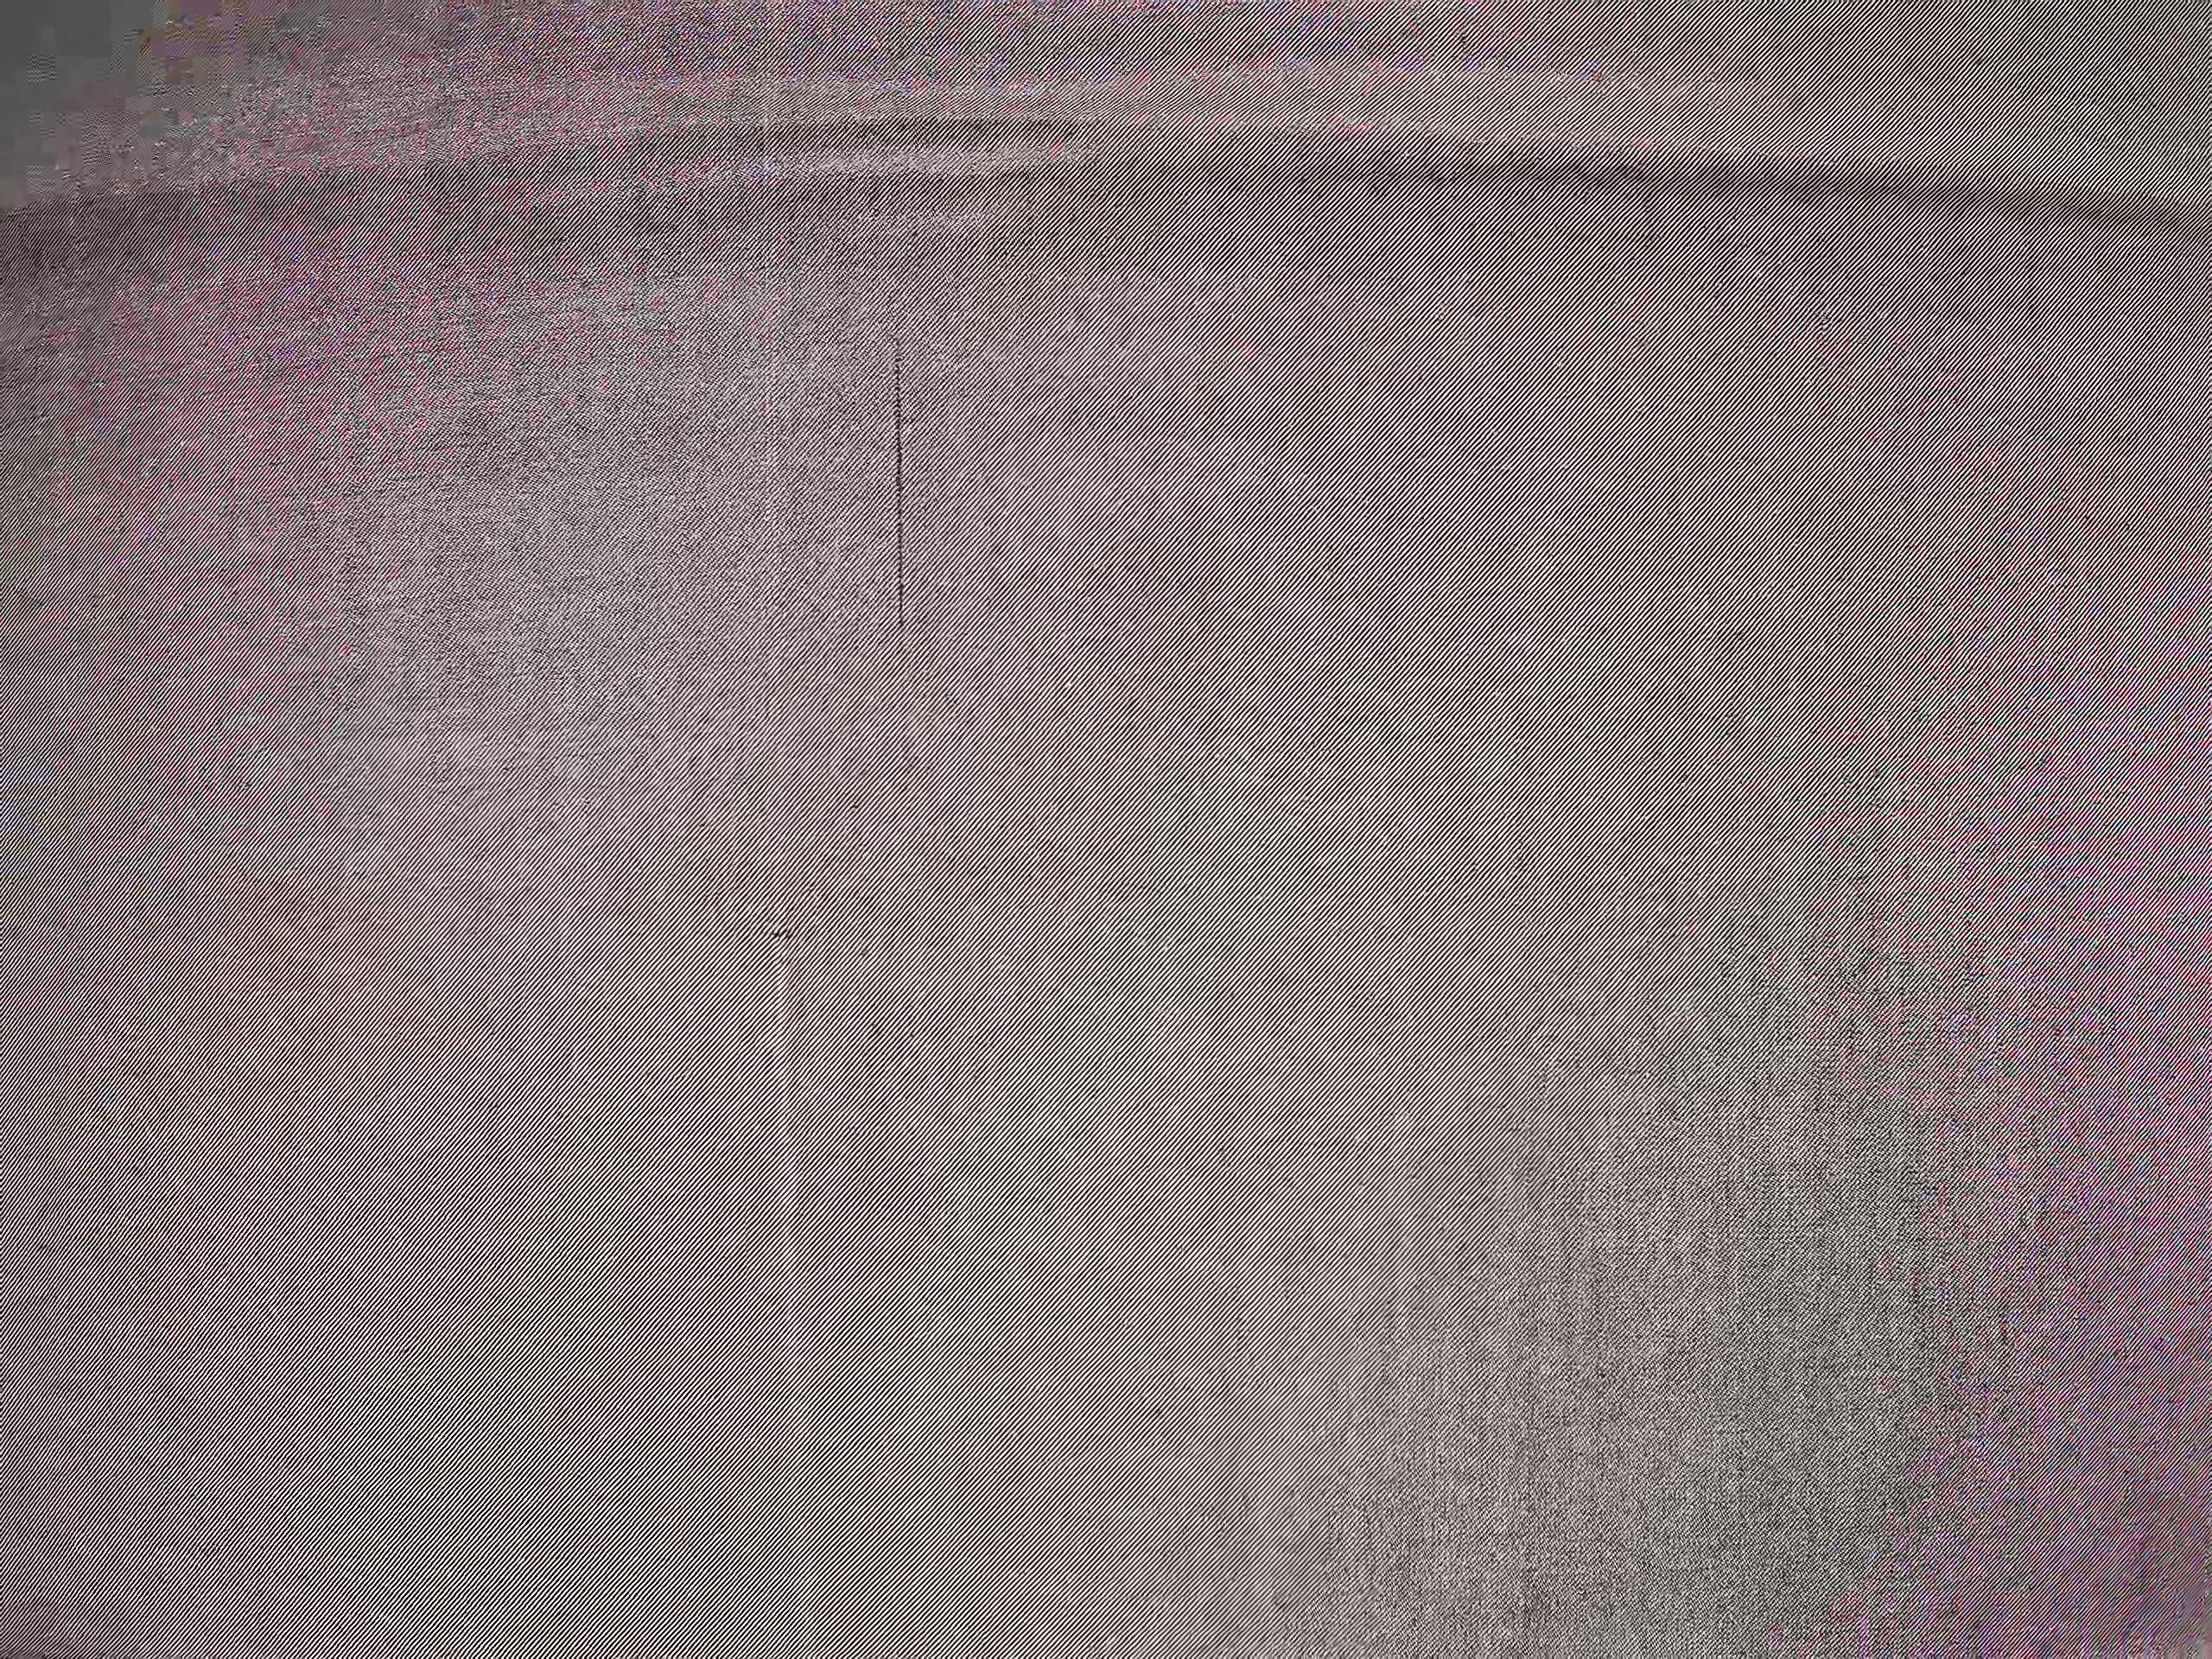hanging-warp: (752, 3, 819, 1647)
others: (885, 328, 911, 643)
